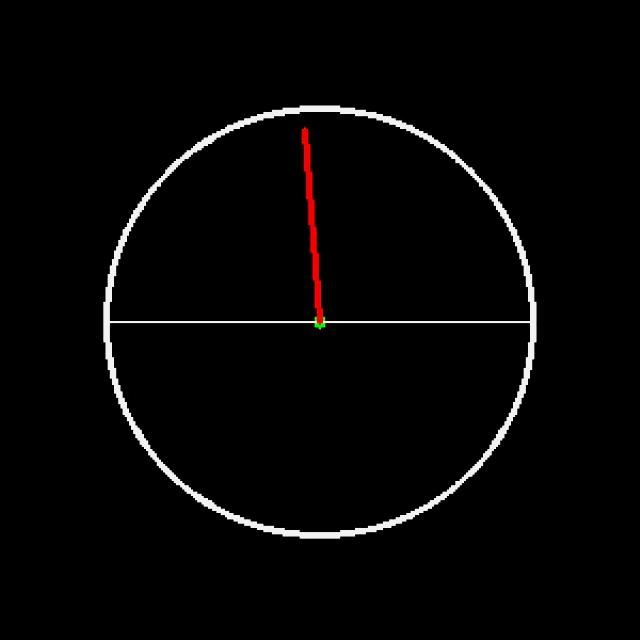Needle_Tip: (284, 111, 326, 157)
Needle_base: (284, 299, 357, 361)
